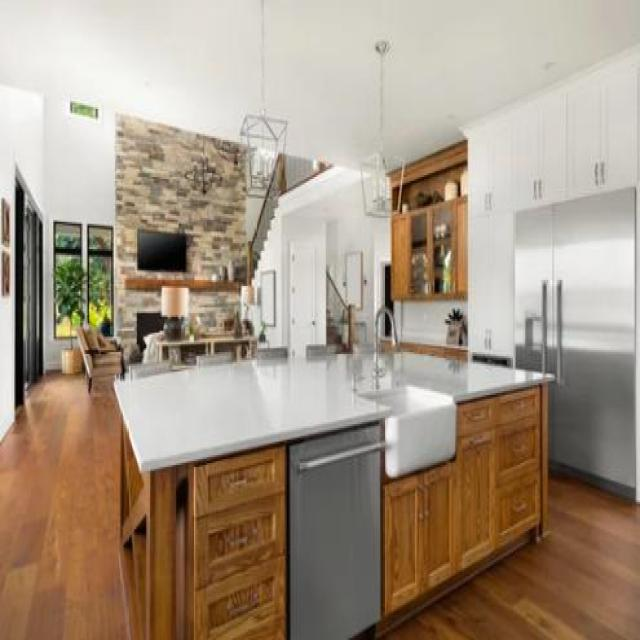dishwasher: (286, 414, 394, 638)
